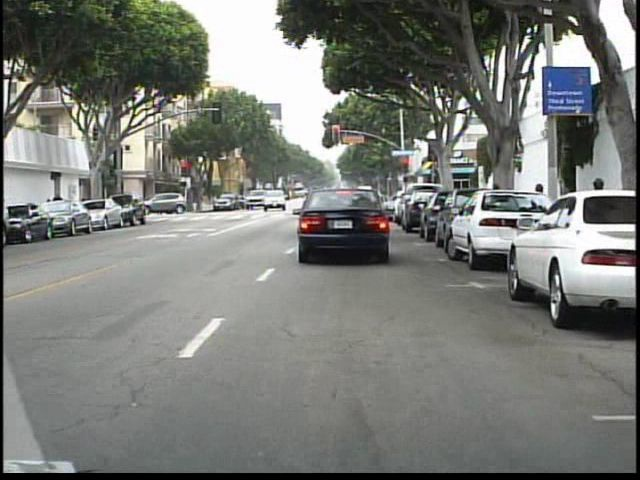person: (49, 187, 66, 226), (149, 190, 165, 218)
